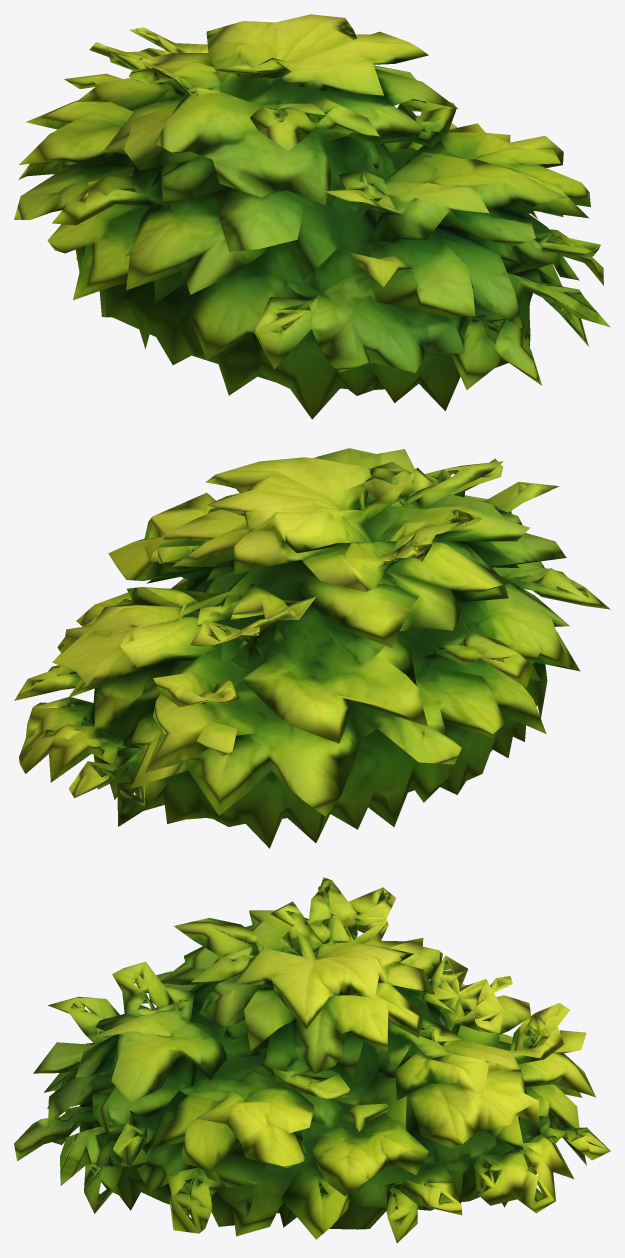
File: bush.glb
3 renders of one model, top to bottom at view 1: azimuth 30°, elevation 25°; view 2: azimuth 150°, elevation 25°; view 3: azimuth 270°, elevation 25°, orthographic. The views are drawn at different scales.
Parts seen in each view (by area): view 1: tripo_node_9ba84236-e8cc-4bee-b4a0-f15c7a587b74; view 2: tripo_node_9ba84236-e8cc-4bee-b4a0-f15c7a587b74; view 3: tripo_node_9ba84236-e8cc-4bee-b4a0-f15c7a587b74.
Part boxes in pixels (x1,y1,x2,y2): tripo_node_9ba84236-e8cc-4bee-b4a0-f15c7a587b74: (14,14,610,419); tripo_node_9ba84236-e8cc-4bee-b4a0-f15c7a587b74: (14,448,610,848); tripo_node_9ba84236-e8cc-4bee-b4a0-f15c7a587b74: (14,877,610,1243).
Bounding box in the file's own units: 0.7547 × 0.4244 × 1.
Materials: 1 (1 with a texture image).
